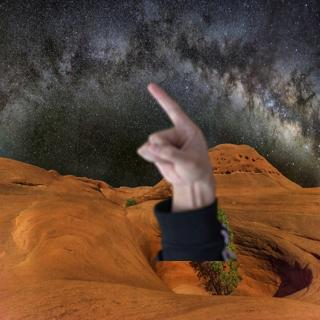IRRITATED: (130, 81, 213, 188)
